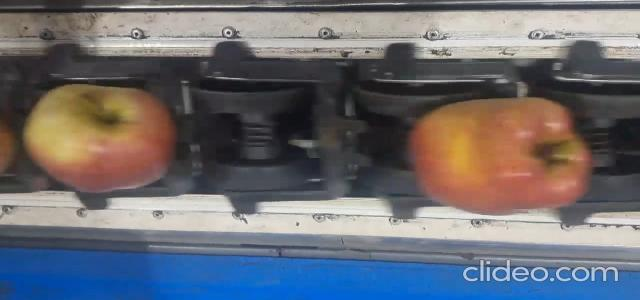apple: (410, 98, 591, 213), (24, 84, 176, 192)
